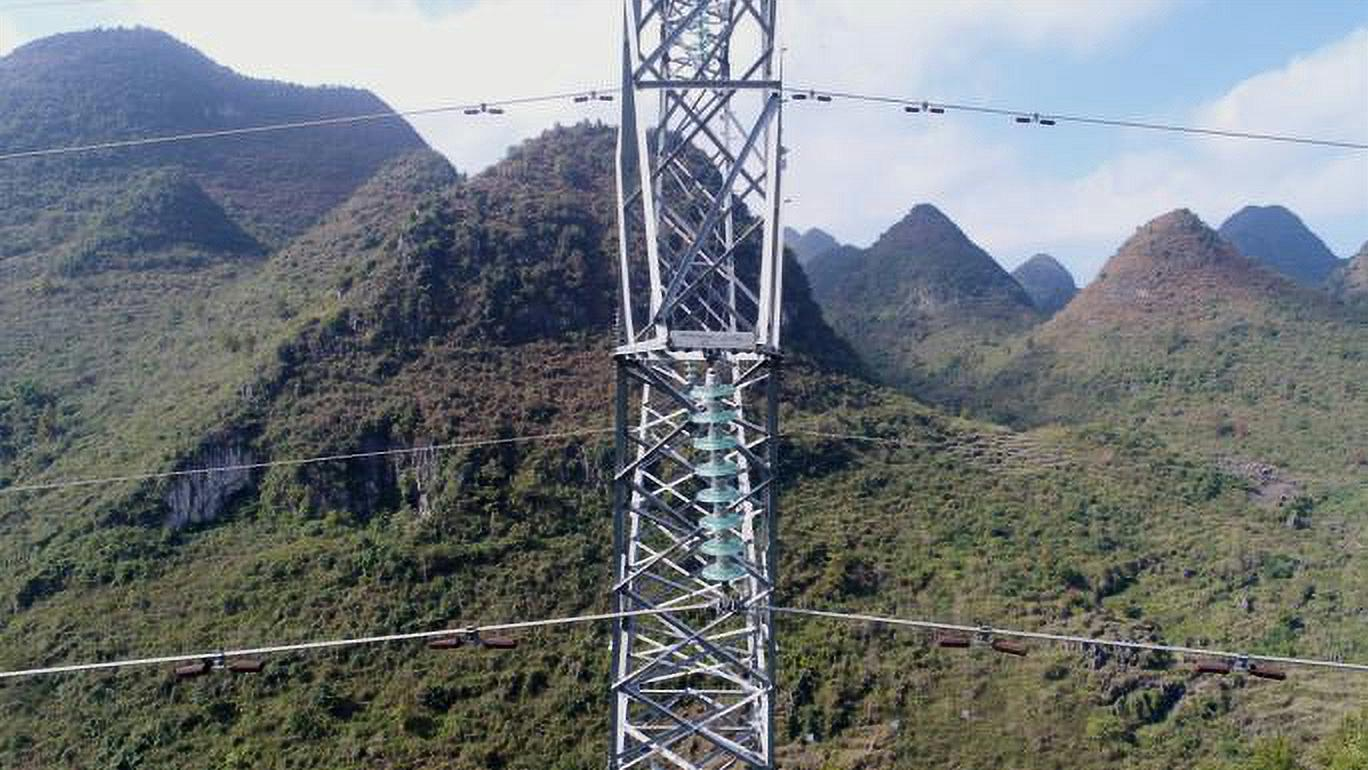insulator: (683, 379, 753, 590)
